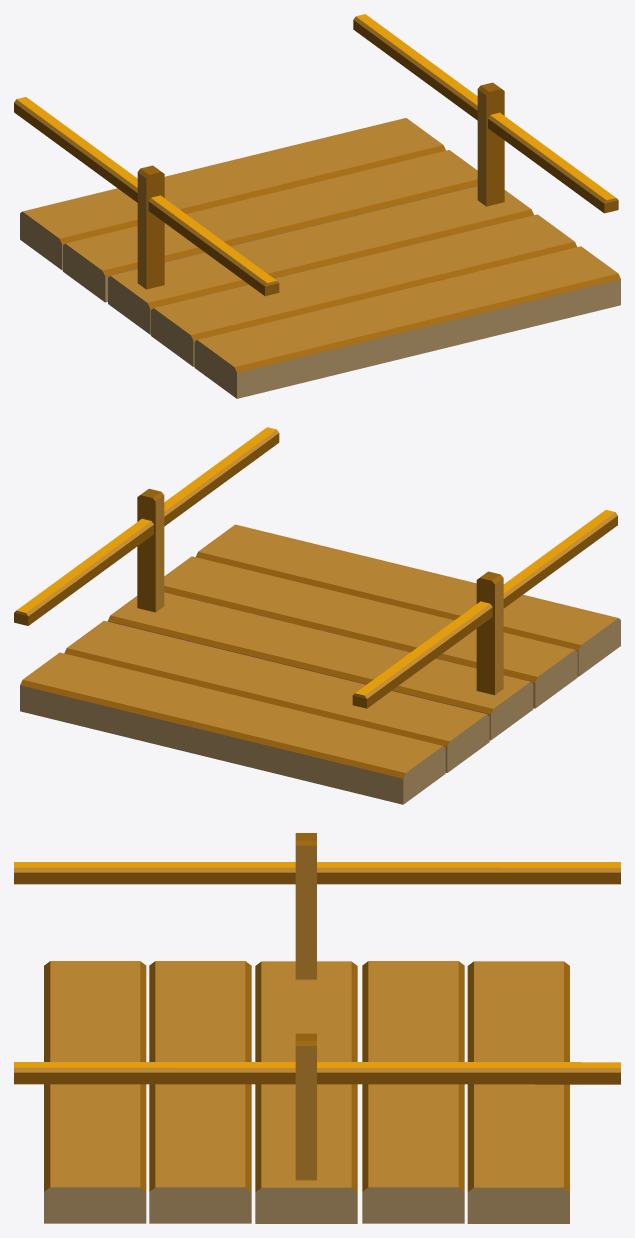
The model's file is bridge_p_open.fbx.
3 renders of one model, top to bottom at view 1: azimuth 30°, elevation 25°; view 2: azimuth 150°, elevation 25°; view 3: azimuth 270°, elevation 25°, orthographic. The views are drawn at different scales.
Visible parts, largest first — view 1: bridge_p_open; view 2: bridge_p_open; view 3: bridge_p_open.
Boxes of the visible parts, x1,y1,x2,y2 form: bridge_p_open: [14, 14, 620, 398]; bridge_p_open: [14, 427, 620, 804]; bridge_p_open: [14, 833, 620, 1223].
Bounding box in the file's own units: 50.41 × 18.01 × 57.02.
